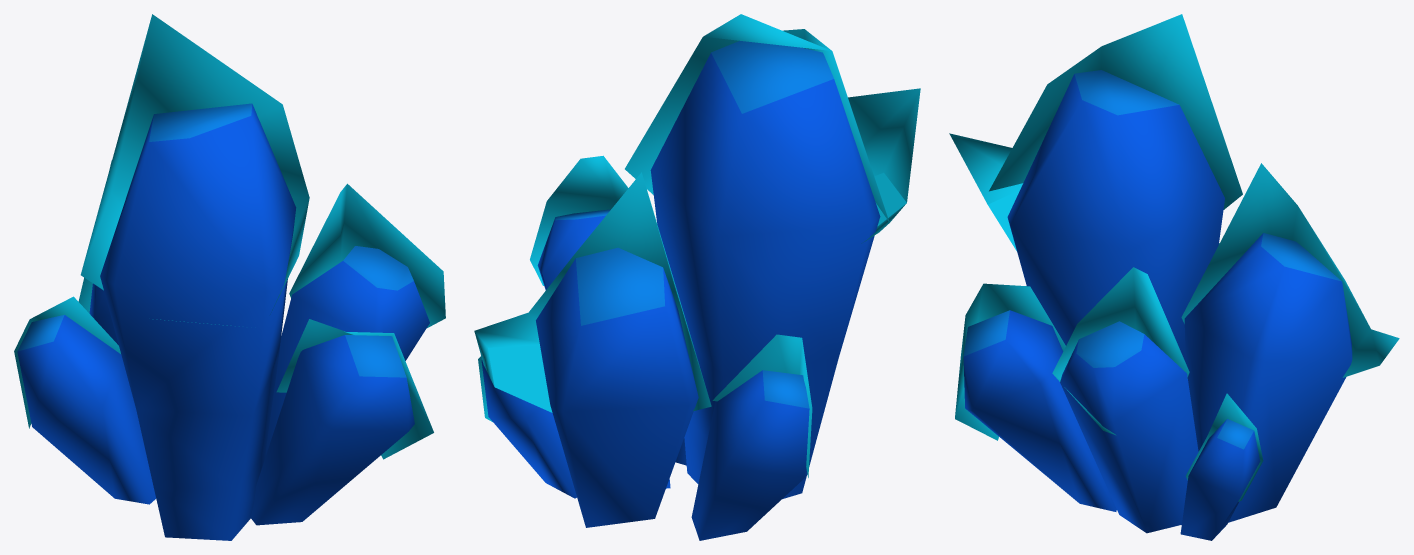
The model's file is natureuniverse_azuritetier2_azuritetier2_original.glb.
3 renders of one model, left to right at view 1: azimuth 30°, elevation 25°; view 2: azimuth 150°, elevation 25°; view 3: azimuth 270°, elevation 25°, orthographic. The views are drawn at different scales.
Visible parts, largest first — view 1: AzuriteTier2; view 2: AzuriteTier2; view 3: AzuriteTier2.
Boxes of the visible parts, x1,y1,x2,y2 form: AzuriteTier2: [14, 14, 445, 540]; AzuriteTier2: [474, 14, 920, 540]; AzuriteTier2: [949, 14, 1399, 540].
Bounding box in the file's own units: 1.89 × 2.5 × 2.27.
1 material, 1 textured.
